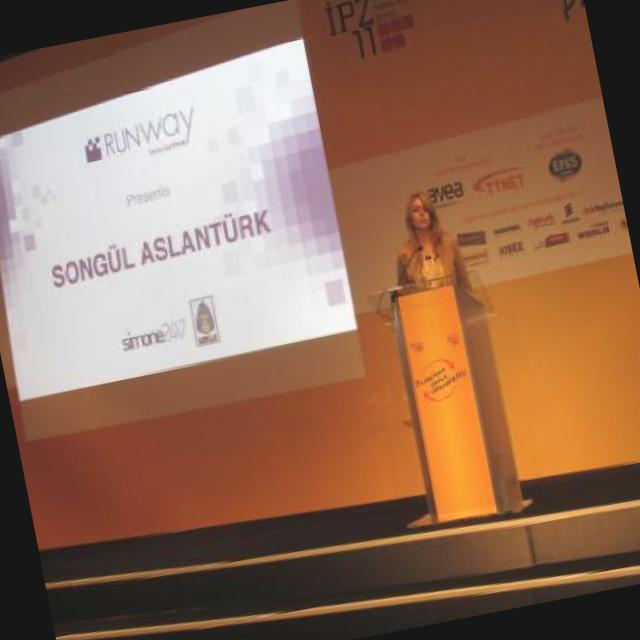Person: (388, 186, 471, 307)
